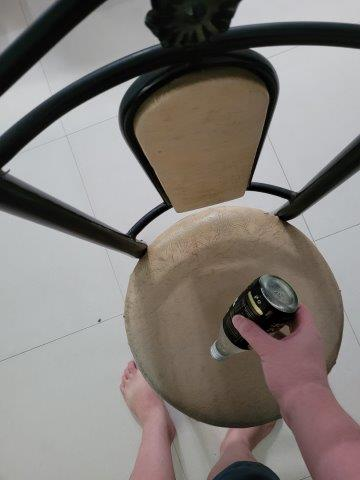botolkaca: (209, 272, 299, 363)
